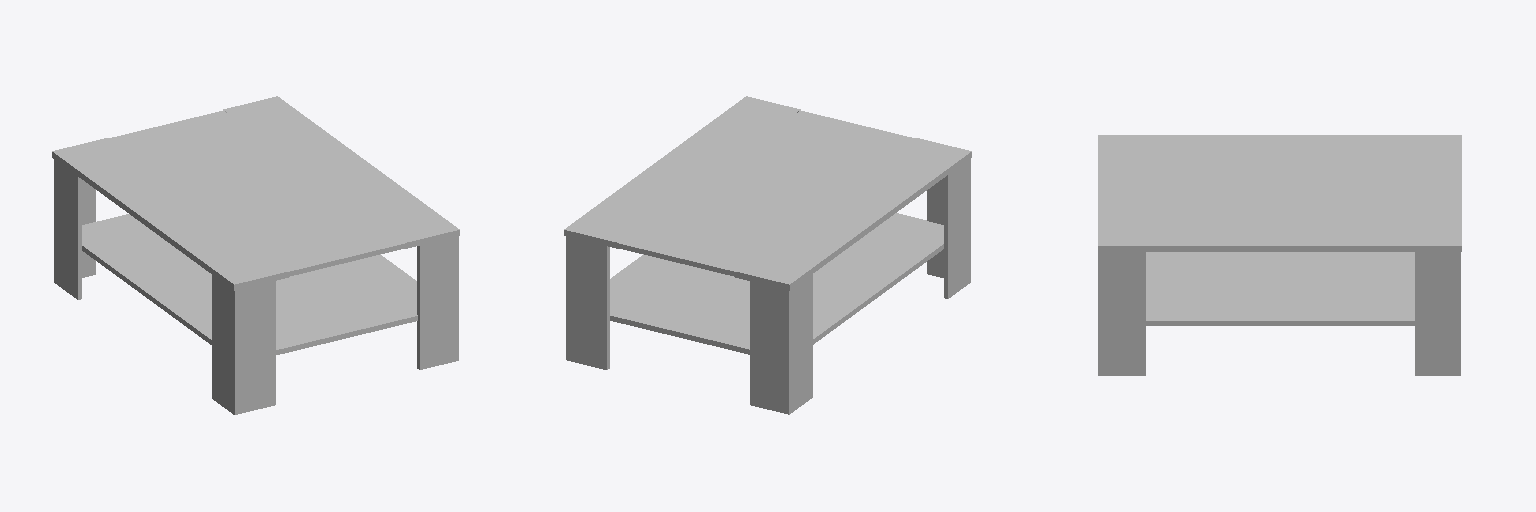
The model's file is table.obj.
3 views of the same model, side by side, from view 1: azimuth 30°, elevation 25°; view 2: azimuth 150°, elevation 25°; view 3: azimuth 270°, elevation 25° (orthographic).
Visible parts, largest first — view 1: Cube.002; view 2: Cube.002; view 3: Cube.002.
Part boxes in pixels (x1,y1,x2,y2): Cube.002: (52, 96, 459, 414); Cube.002: (564, 96, 971, 414); Cube.002: (1098, 135, 1461, 375).
Size of the model in its own units: 3.31 by 1.84 by 4.63.